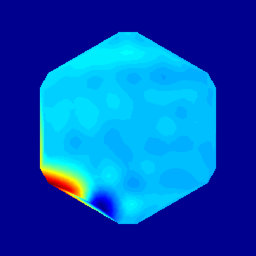ship: (79, 197, 112, 219)
wave: (49, 181, 87, 206)
